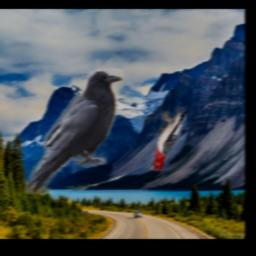Crow: (24, 68, 123, 194)
Woodpecker: (148, 106, 187, 171)
